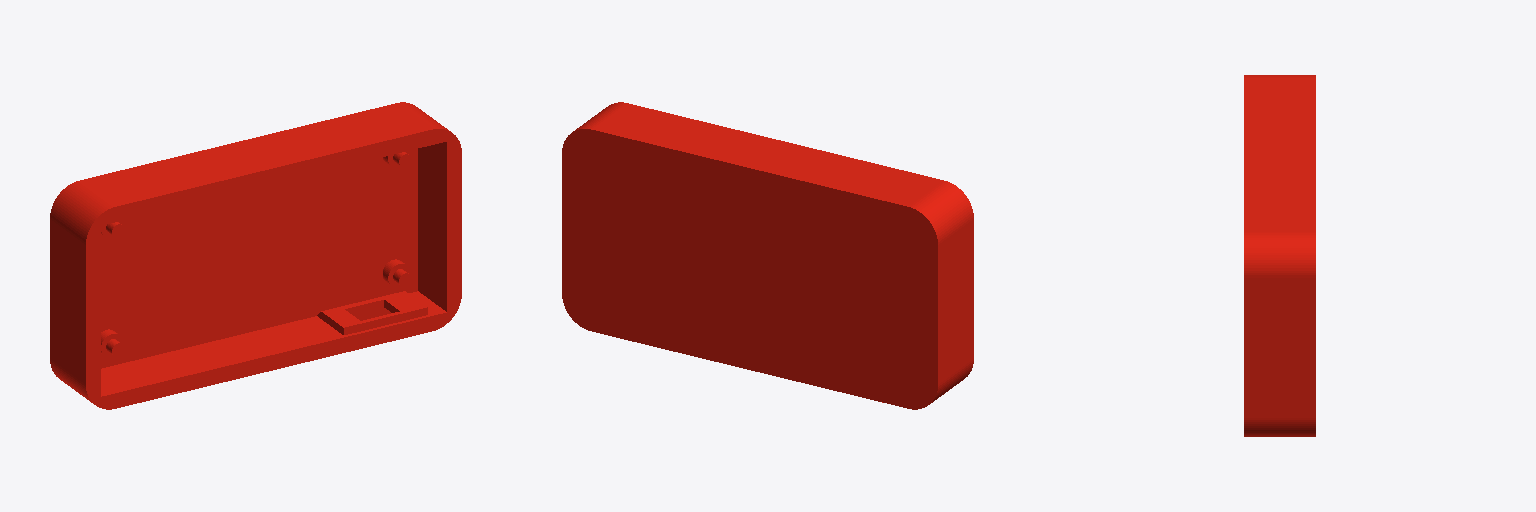
Rendered from Case.obj.
3 views of the same model, side by side, from view 1: azimuth 30°, elevation 25°; view 2: azimuth 150°, elevation 25°; view 3: azimuth 270°, elevation 25° (orthographic).
Parts seen in each view (by area): view 1: Case; view 2: Case; view 3: Case.
Part boxes in pixels (x1,y1,x2,y2): Case: (50, 102, 461, 409); Case: (562, 102, 973, 409); Case: (1244, 75, 1315, 436).
Bounding box in the file's own units: 76 × 39 × 12.6.